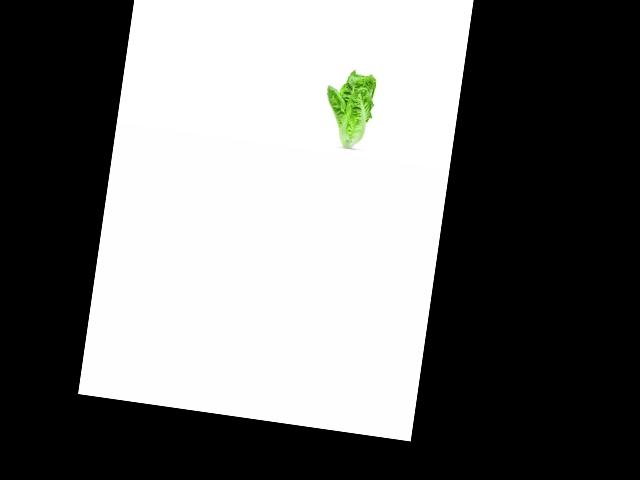lettuce: (319, 65, 381, 148)
